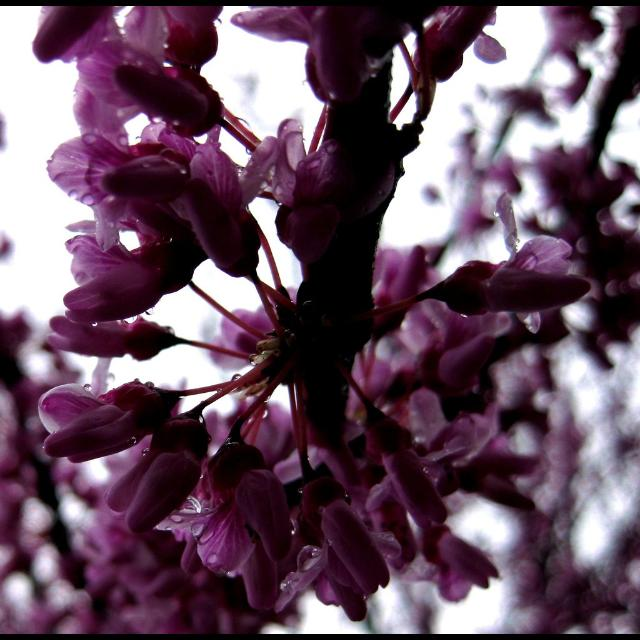Flower: (1, 6, 640, 634), (428, 192, 590, 334)
